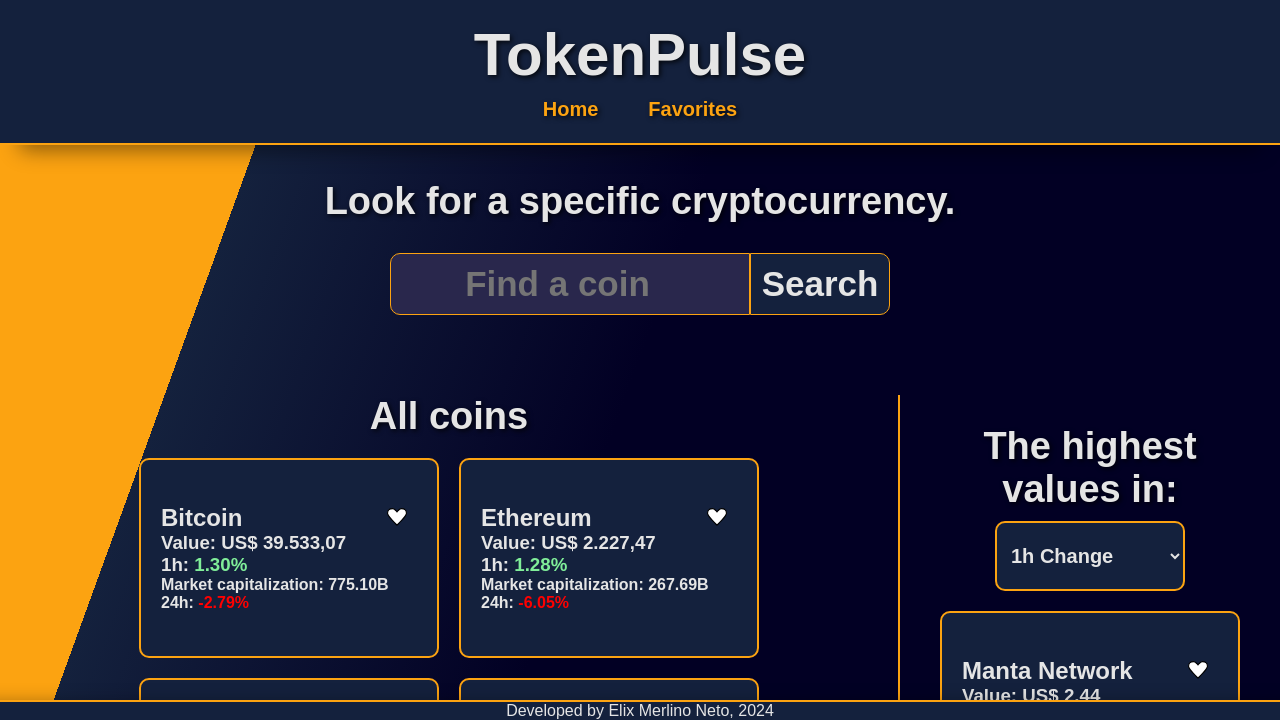
it: Testa o input serach com um dado invalido › Testa a funcionalidade do botão de pesquisar
expect the button with test id "search-btn" is shown: met, box [750,253,890,315]
In the search field with test id "input-search": x=570, y=284 [390,253,750,315], type "aaaa"
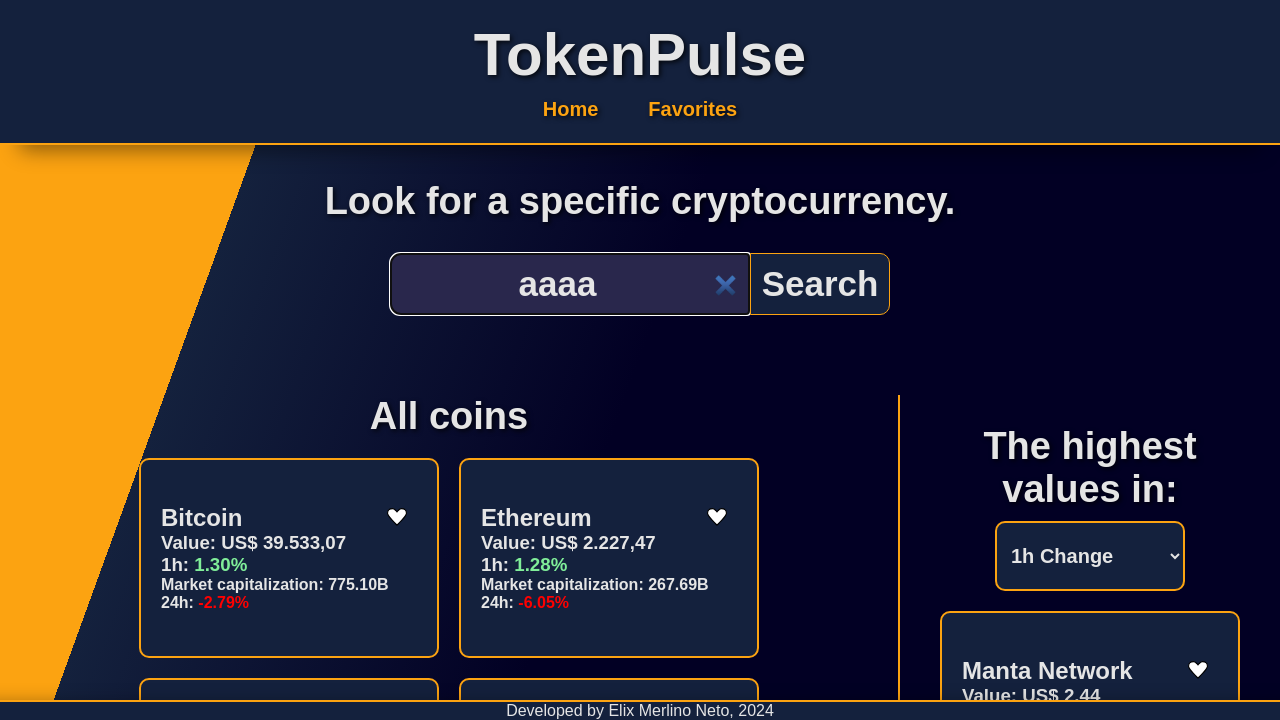
Click the button with test id "search-btn": x=820, y=284 [750,253,890,315]
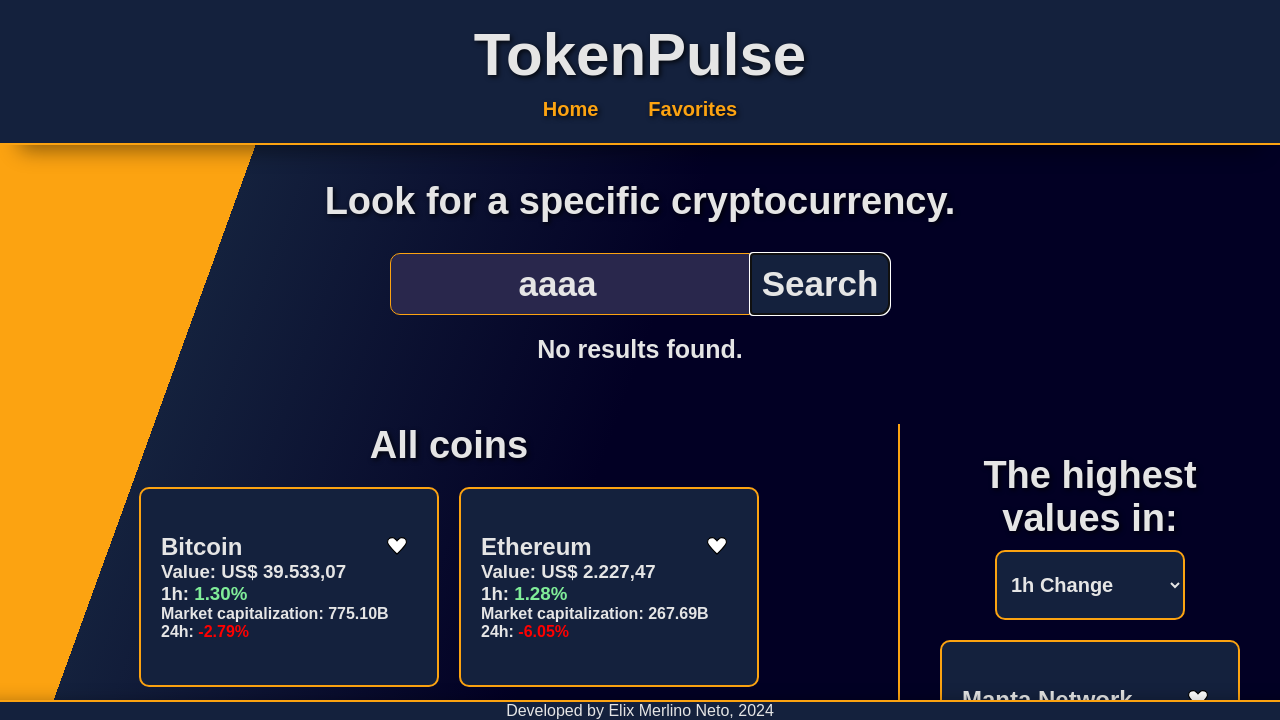
expect the text "No results found." is shown: met, box [537,335,743,364]
